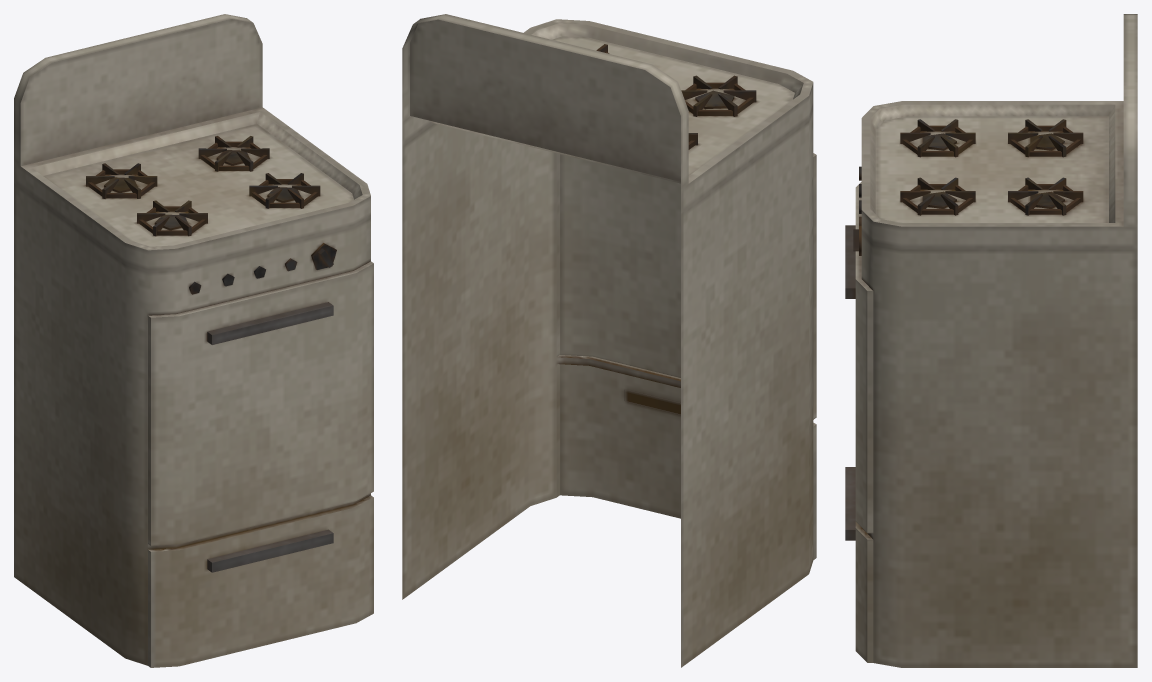
Rendered from stove.fbx.
The picture shows the model from 3 angles, left to right: view 1: azimuth 30°, elevation 25°; view 2: azimuth 150°, elevation 25°; view 3: azimuth 270°, elevation 25°; orthographic projection. The views are drawn at different scales.
Parts seen in each view (by area): view 1: stove; view 2: stove; view 3: stove.
Boxes of the visible parts, x1,y1,x2,y2 form: stove: [14, 14, 373, 667]; stove: [402, 14, 816, 667]; stove: [845, 14, 1137, 667].
Bounding box in the file's own units: 60.96 × 123 × 60.08.
1 material, 1 textured.
